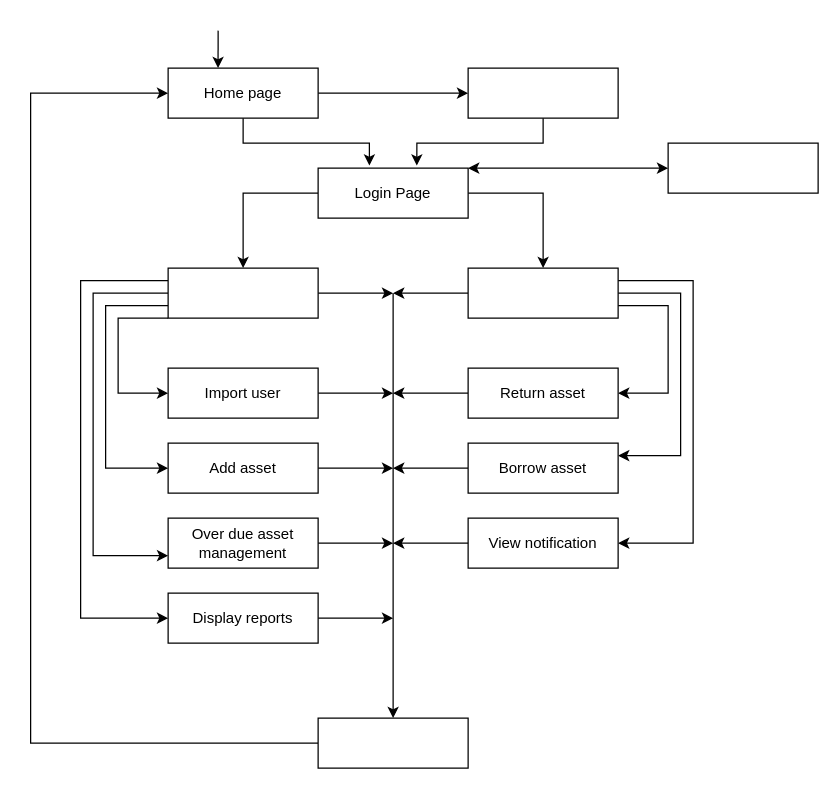
The diagram is 840 pixels wide and 790 high, and some of its shapes have lost their labels. The shapes that lost their labels are listed below. From the top down, each one's centre as x and y in pixels, then its label:
point 542,92: Registration
point 742,167: Forgot password
point 242,292: Admin Home Page
point 542,292: Borrower Home Page
point 392,742: Logout (optional)
